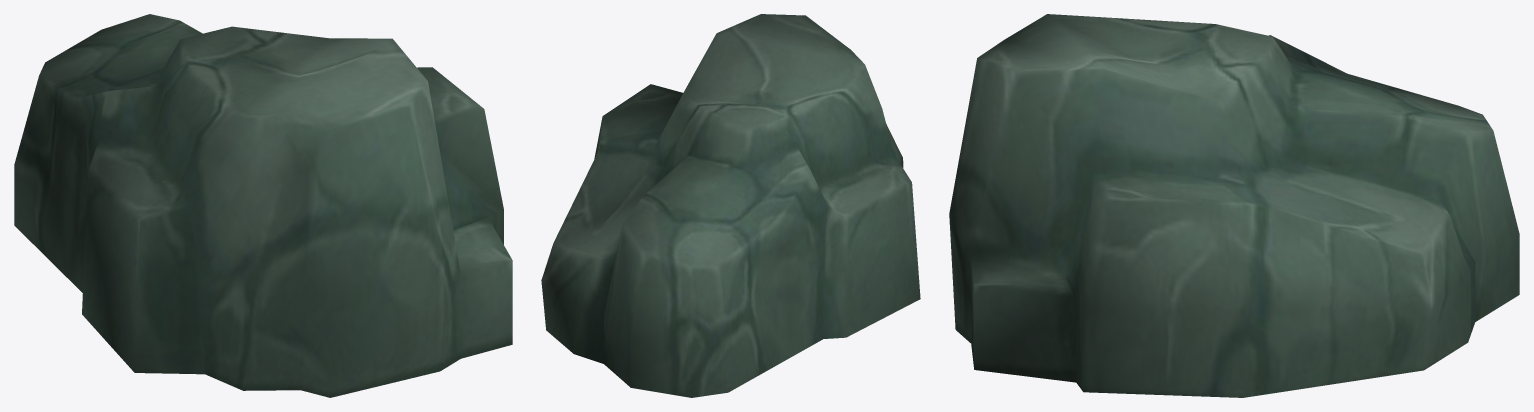
File: Moba_st01.FBX
3 renders of one model, left to right at view 1: azimuth 30°, elevation 25°; view 2: azimuth 150°, elevation 25°; view 3: azimuth 270°, elevation 25°, orthographic. The views are drawn at different scales.
Parts seen in each view (by area): view 1: Moba_st01; view 2: Moba_st01; view 3: Moba_st01.
Part boxes in pixels (x1,y1,x2,y2): Moba_st01: (14, 14, 512, 397); Moba_st01: (541, 14, 920, 397); Moba_st01: (949, 14, 1519, 397).
Bounding box in the file's own units: 3.25 × 4.31 × 2.28.
